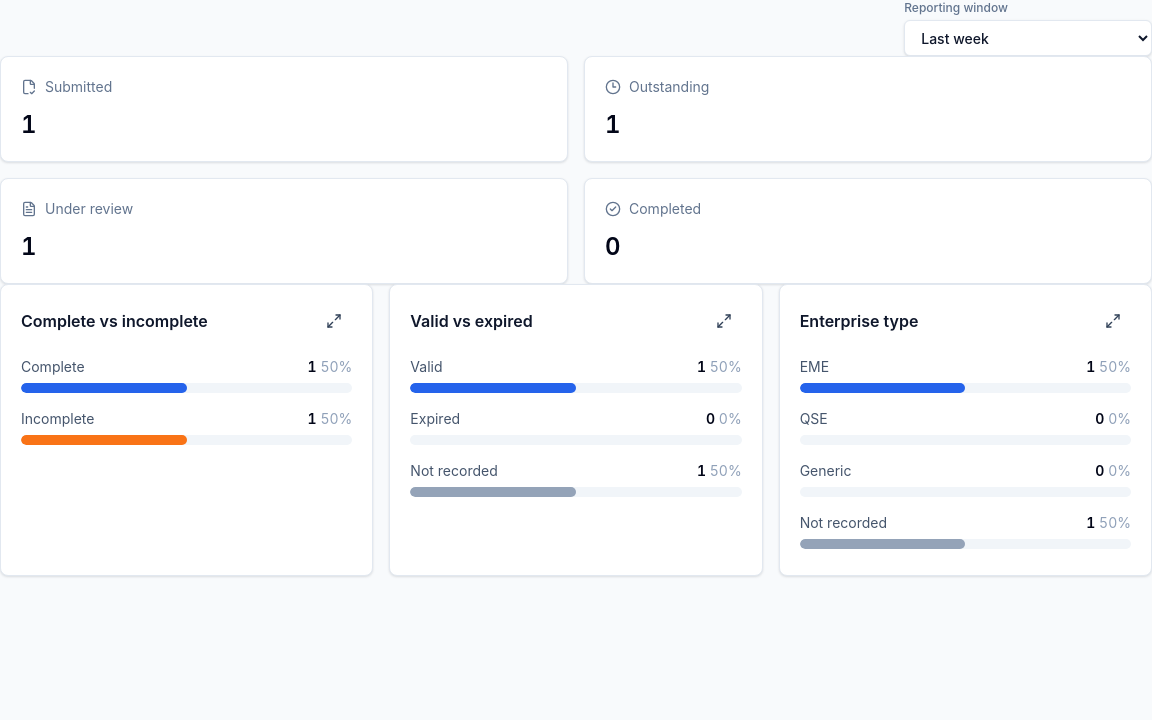
dashboard report interactions › asks for a recipient and sends through the report endpoint without claiming success early
Click the button named "Expand Valid vs expired".
click(724, 321)  # box [706,305,742,337]
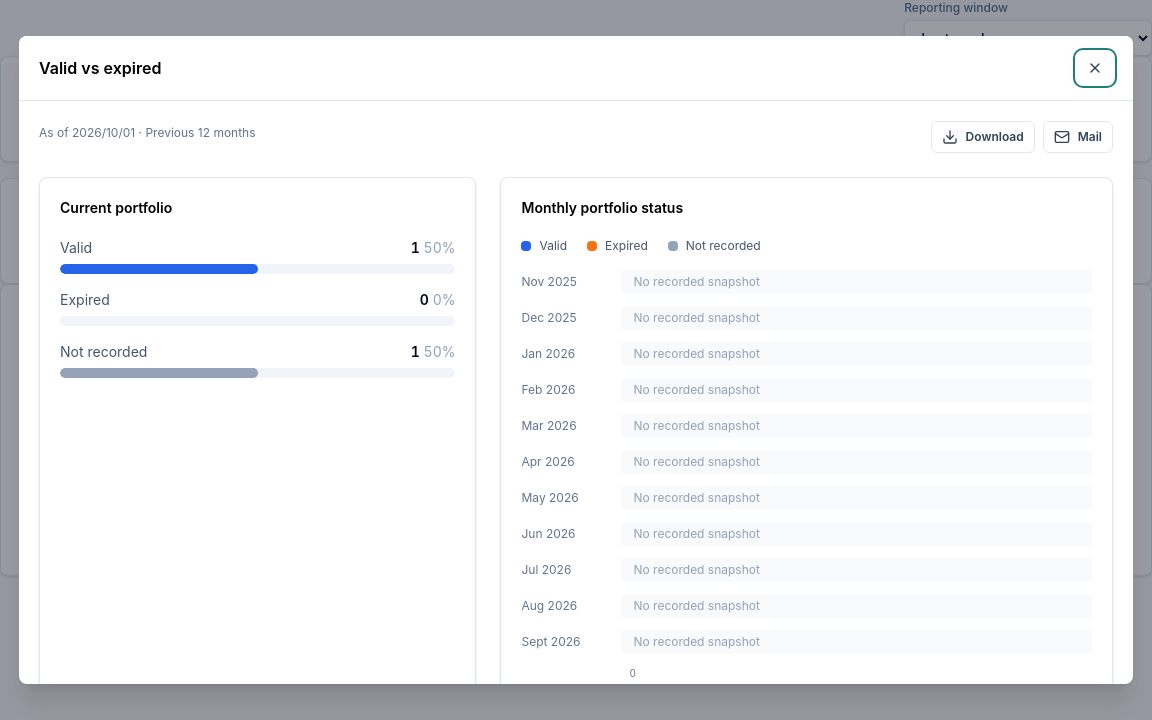
Click the button "Mail".
click(1078, 137)  # box [1043,121,1113,153]
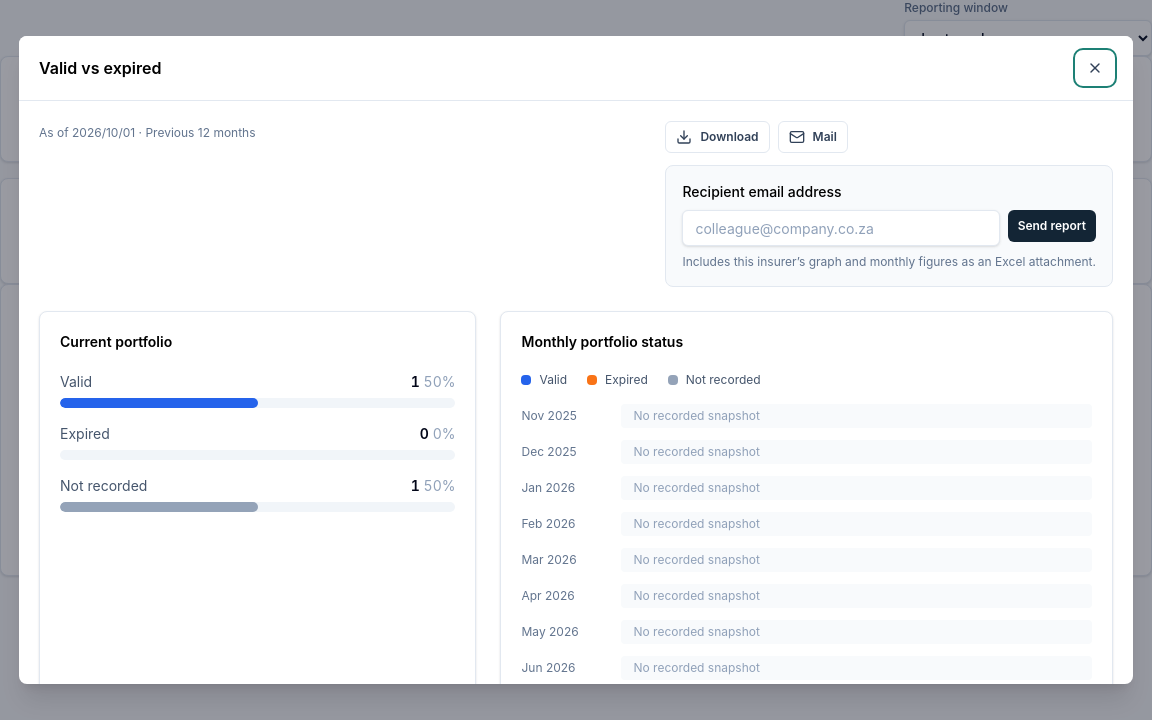
Type "recipient@example.test" into the field labelled "Recipient email address".
click(841, 228); type("recipient@example.test")  # box [682,210,1000,246]
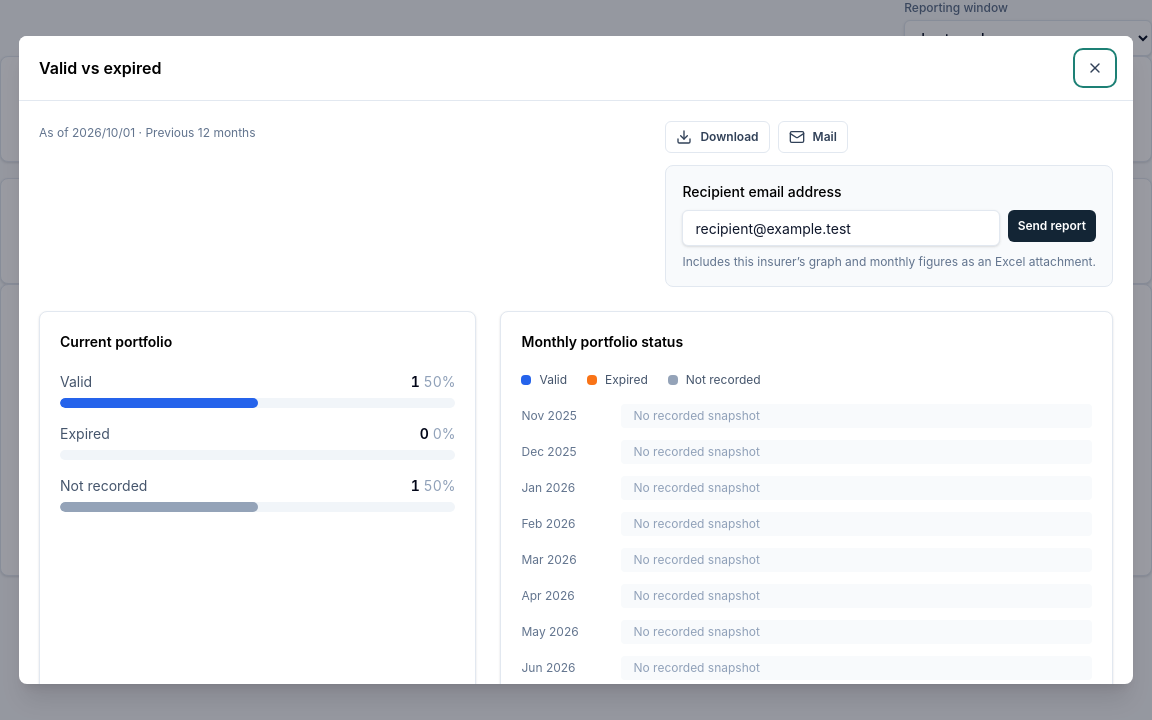
Click the button "Send report".
click(1052, 226)  # box [1008,210,1096,242]
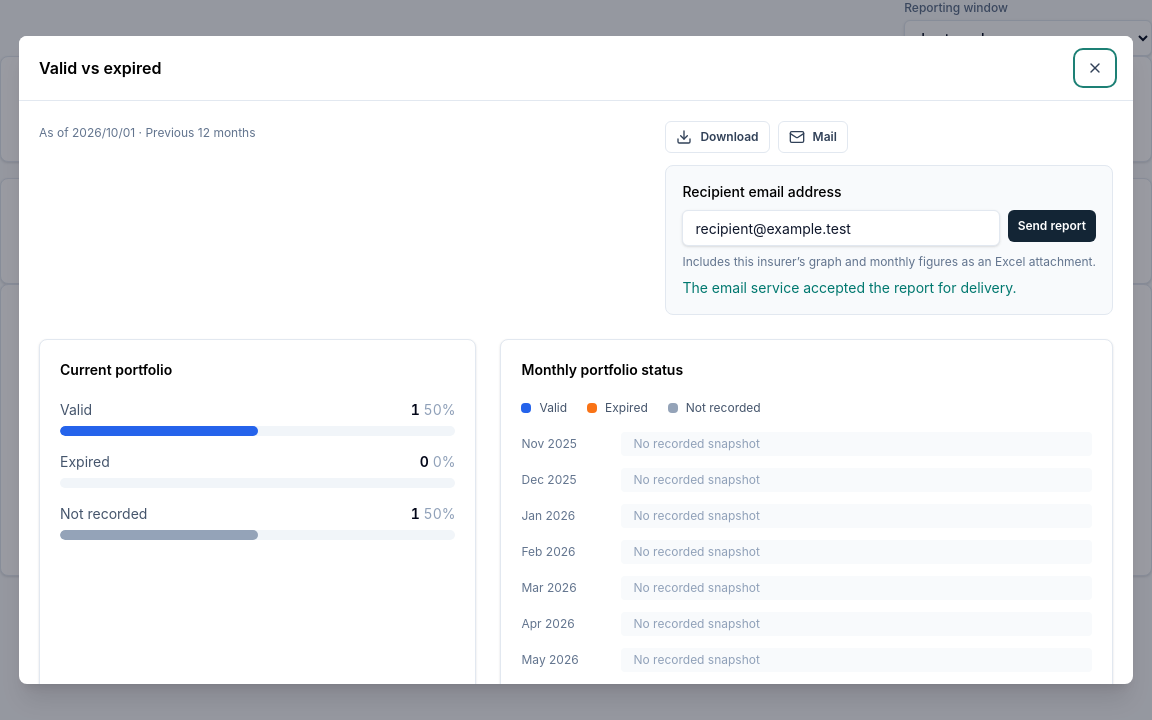
Expected: the message shows "accepted the report for delivery", [682,279,1016,296]
